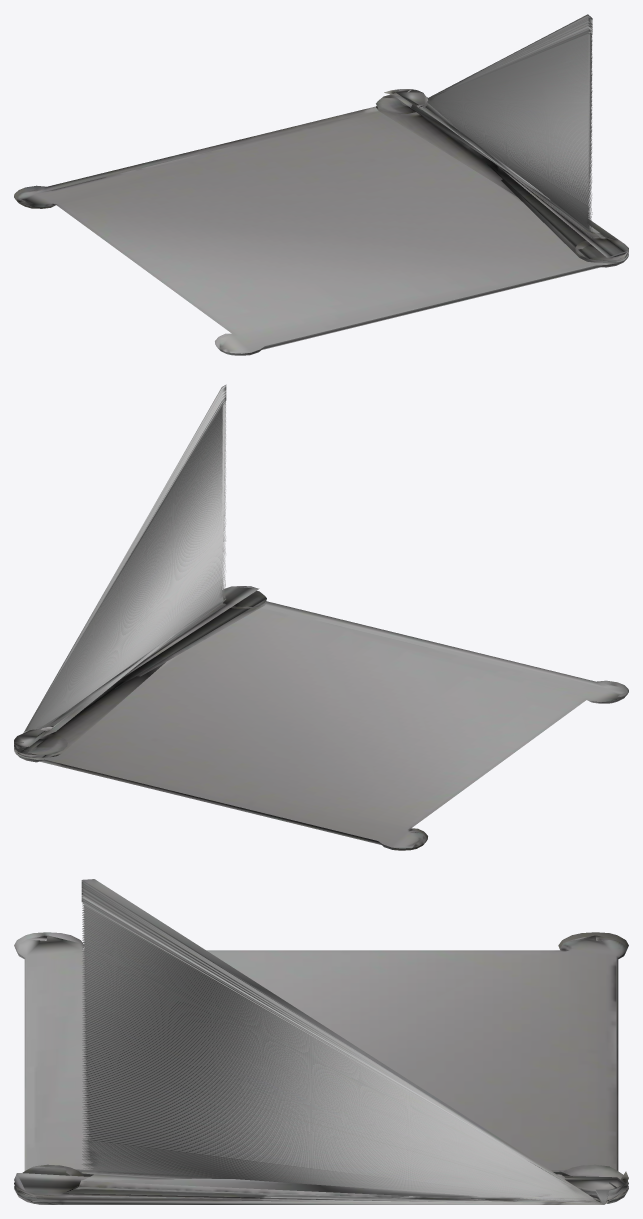
Rendered from public_bathroom_cubicle_03099180_v4.glb.
3 renders of one model, top to bottom at view 1: azimuth 30°, elevation 25°; view 2: azimuth 150°, elevation 25°; view 3: azimuth 270°, elevation 25°, orthographic. The views are drawn at different scales.
Visible parts, largest first — view 1: mesh_input; view 2: mesh_input; view 3: mesh_input.
Boxes of the visible parts, <box> form: mesh_input: <box>14,14,628,355</box>; mesh_input: <box>14,384,628,850</box>; mesh_input: <box>14,879,628,1204</box>.
Size of the model in its own units: 1.27 by 0.6934 by 1.22.
Materials: 1 (1 with a texture image).
